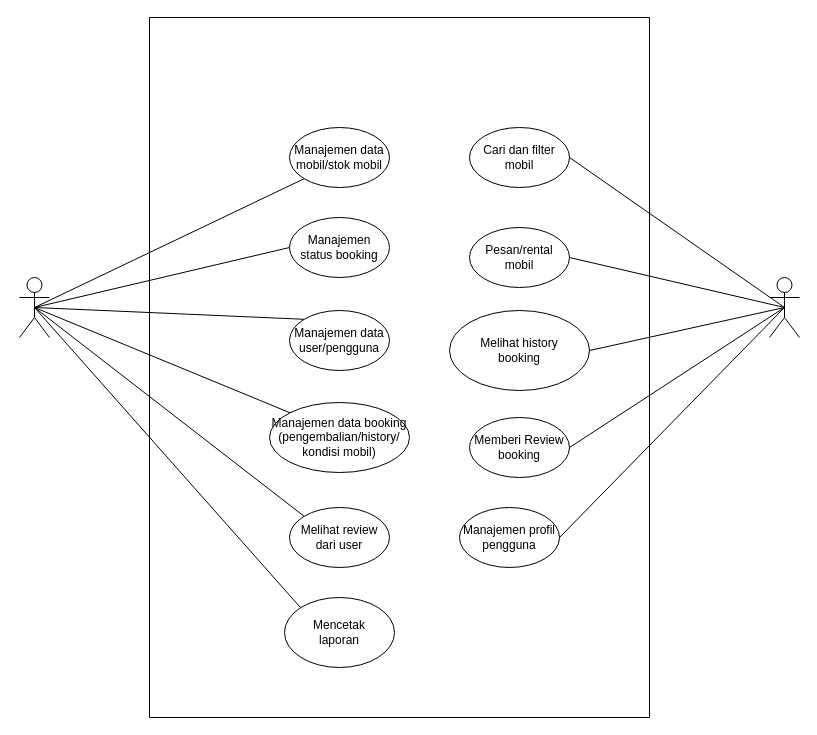
Image size: 817x735. Some labels were removed from this diagram. The centre of each missing label's shape, as x and y in pixels:
"Admin" belongs at [34,307].
"User" belongs at [784,307].
